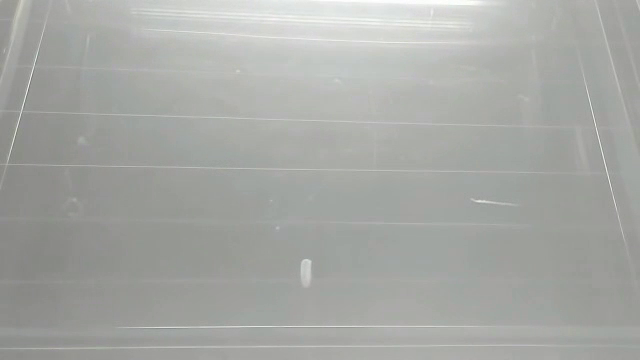alpha: (467, 194, 520, 210), (297, 255, 317, 292)
